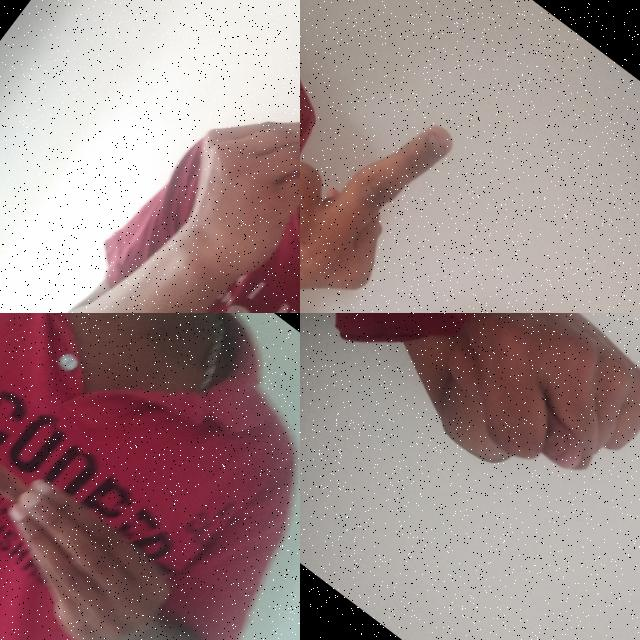Chin Flick: (107, 0, 300, 313)
Dulya: (396, 313, 640, 526)
Five Fathers: (0, 313, 229, 640)
Middle Finger: (300, 22, 476, 313)
